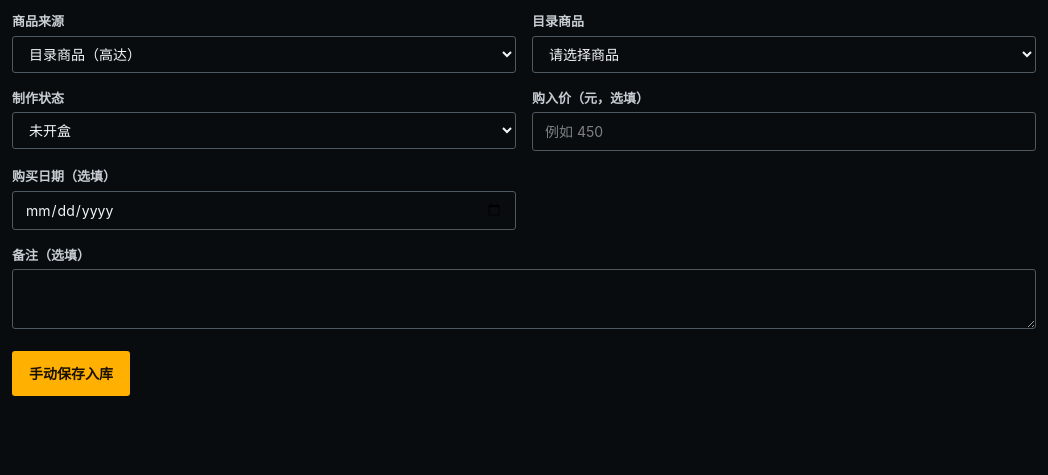
Test case: ManualEntryForm 组件 › 未选择商品提交时显示错误，不发起请求
Click the button with test id "manual-submit".
click(71, 374)  # box x1=12 y1=351 x2=130 y2=396
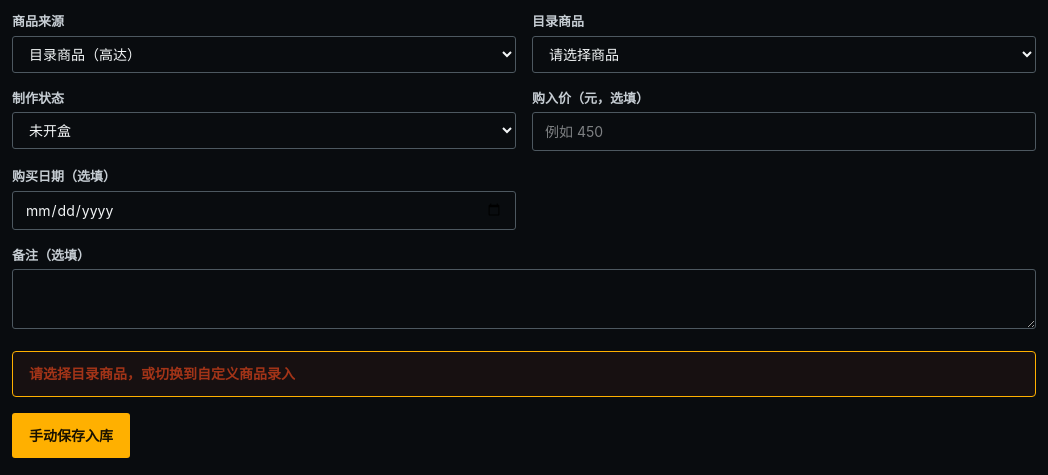
expect the message with test id "error-banner" shows "请选择目录商品": met, box x1=29 y1=365 x2=295 y2=382
